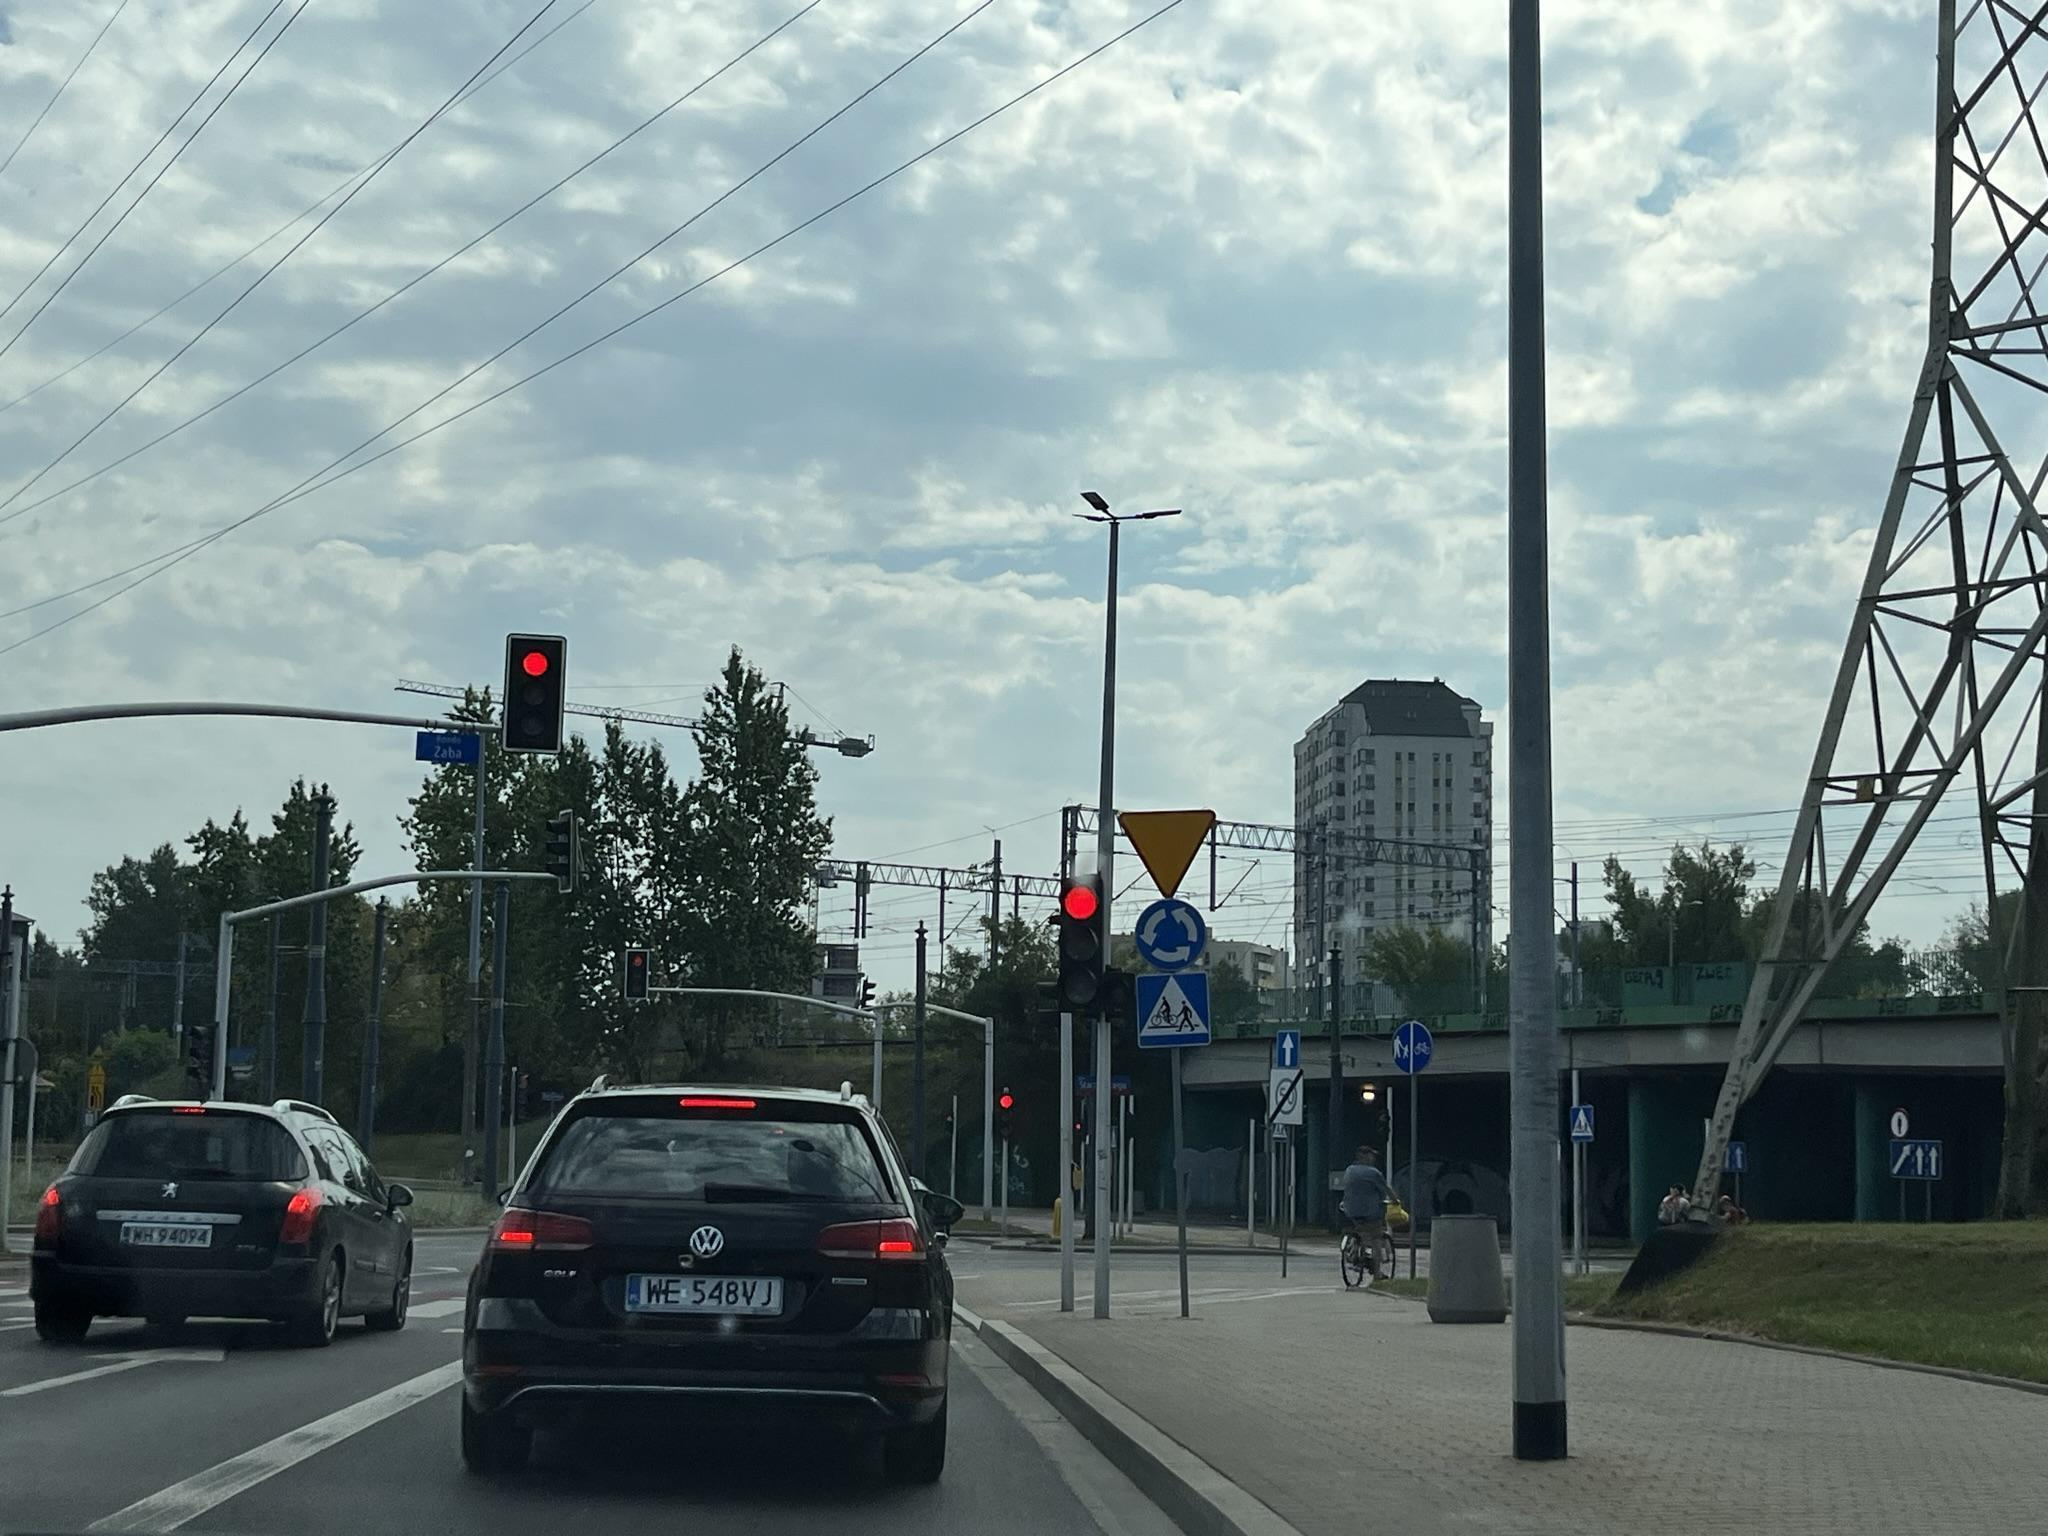information: (1135, 973, 1211, 1047), (1134, 899, 1208, 971), (1390, 1020, 1434, 1076), (1569, 1105, 1593, 1141), (1277, 1031, 1300, 1068)
prohibitory: (1274, 1078, 1298, 1115)
warning: (1118, 810, 1219, 899)
